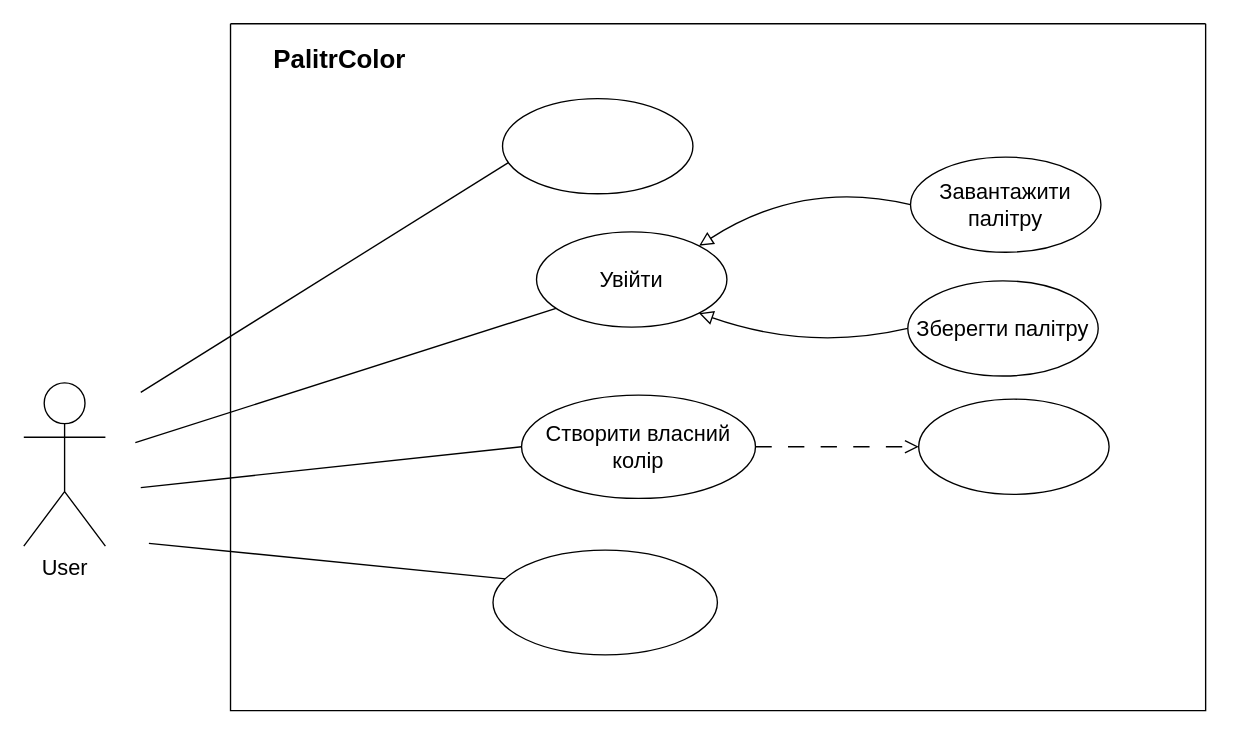
Some shapes in this 1243 by 748 pixel diagram are drawn without their labels. Here are the shapes that lost their labels. From the top down, the centre of each, then its label:
At (597,145): "Зареєструватись".
At (1013,446): "Скористатись піпеткою".
At (604,602): "Вибрати колір з вже існуючих".
